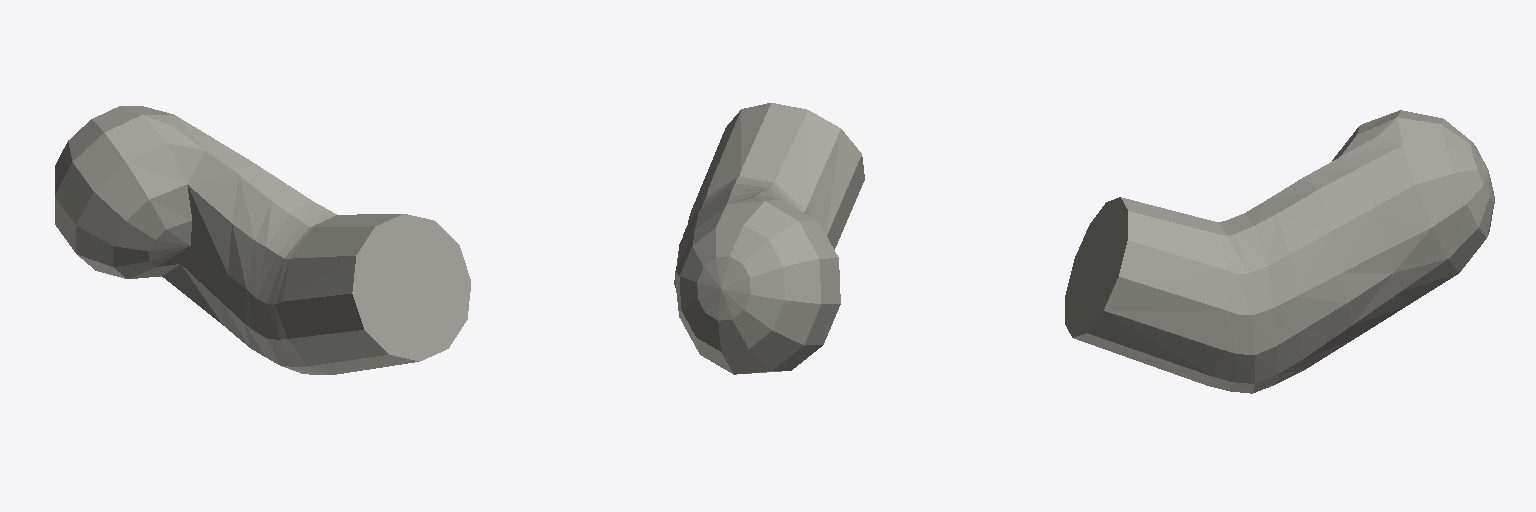
3 views of the same model, side by side, from view 1: azimuth 30°, elevation 25°; view 2: azimuth 150°, elevation 25°; view 3: azimuth 270°, elevation 25° (orthographic).
Parts seen in each view (by area): view 1: Mesh_0142.003_Mesh_0142Mesh.002; view 2: Mesh_0142.003_Mesh_0142Mesh.002; view 3: Mesh_0142.003_Mesh_0142Mesh.002.
Part boxes in pixels (x1,y1,x2,y2): Mesh_0142.003_Mesh_0142Mesh.002: (55, 106, 470, 374); Mesh_0142.003_Mesh_0142Mesh.002: (674, 103, 864, 374); Mesh_0142.003_Mesh_0142Mesh.002: (1065, 110, 1494, 393).
Bounding box in the file's own units: 0.0793 × 0.0663 × 0.1161.
1 materials, 1 textured.